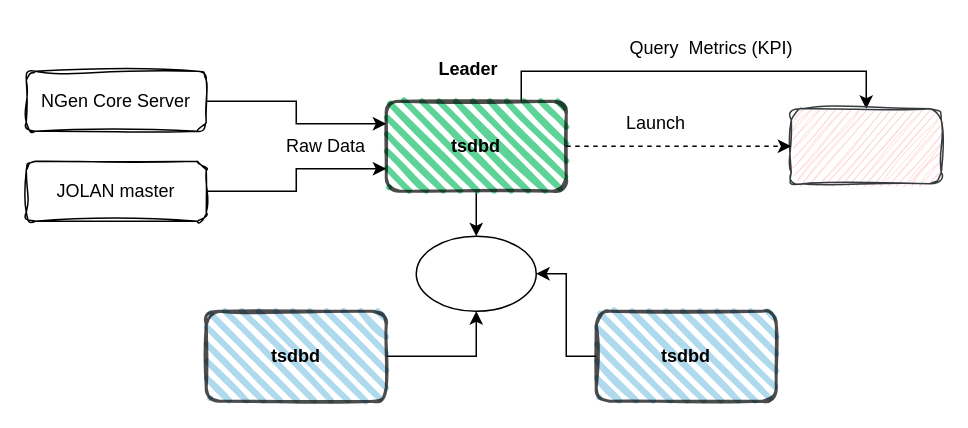
Image size: 968x428. Some labels were removed from this diagram. The shapes that lost their labels are listed below. From the top down, each one's centre as x and y in pixels, then its label:
At point 865,145: "Prometheus".
At point 475,273: "NFS lock file".
